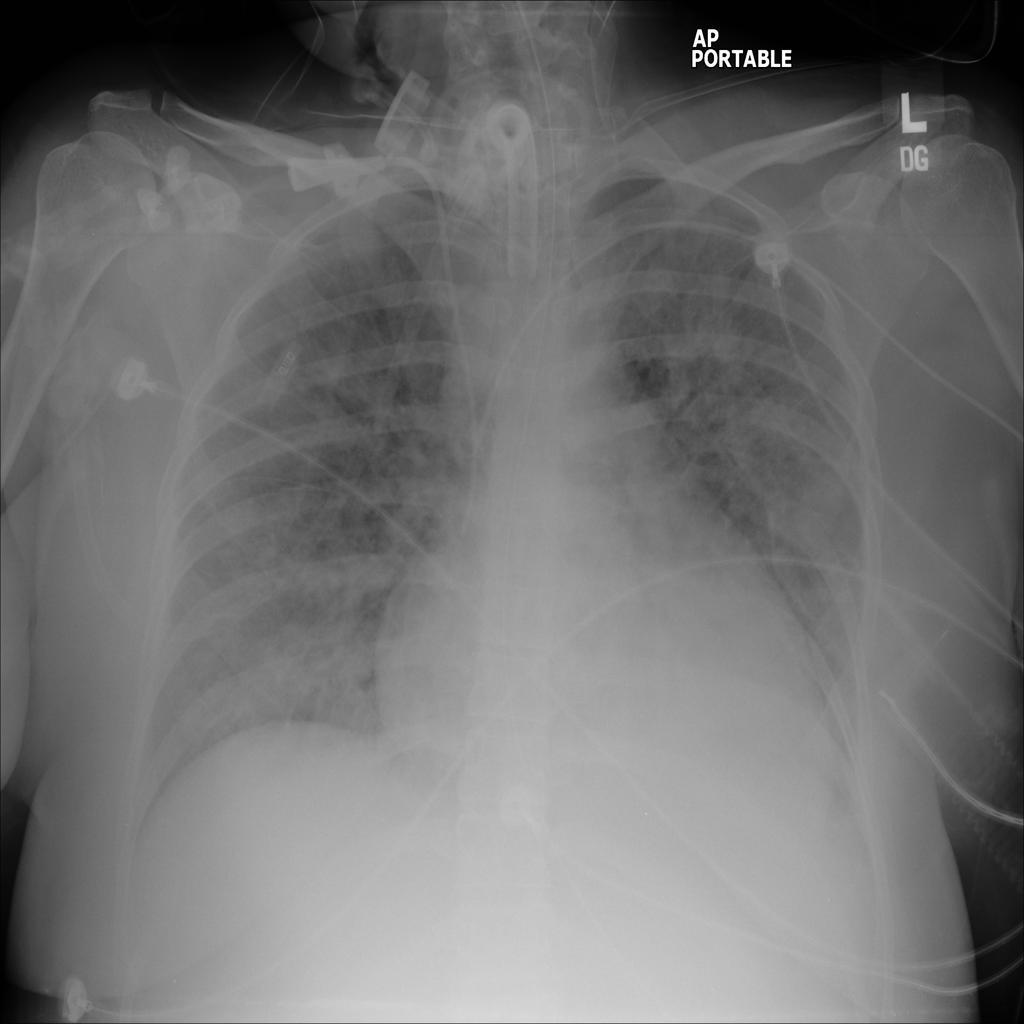Cardiomegaly: (342, 422, 855, 882)
